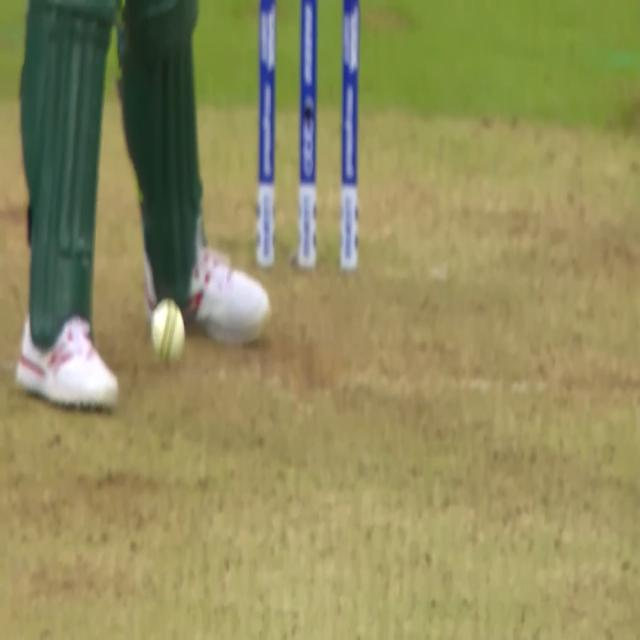ball: (148, 301, 188, 364)
